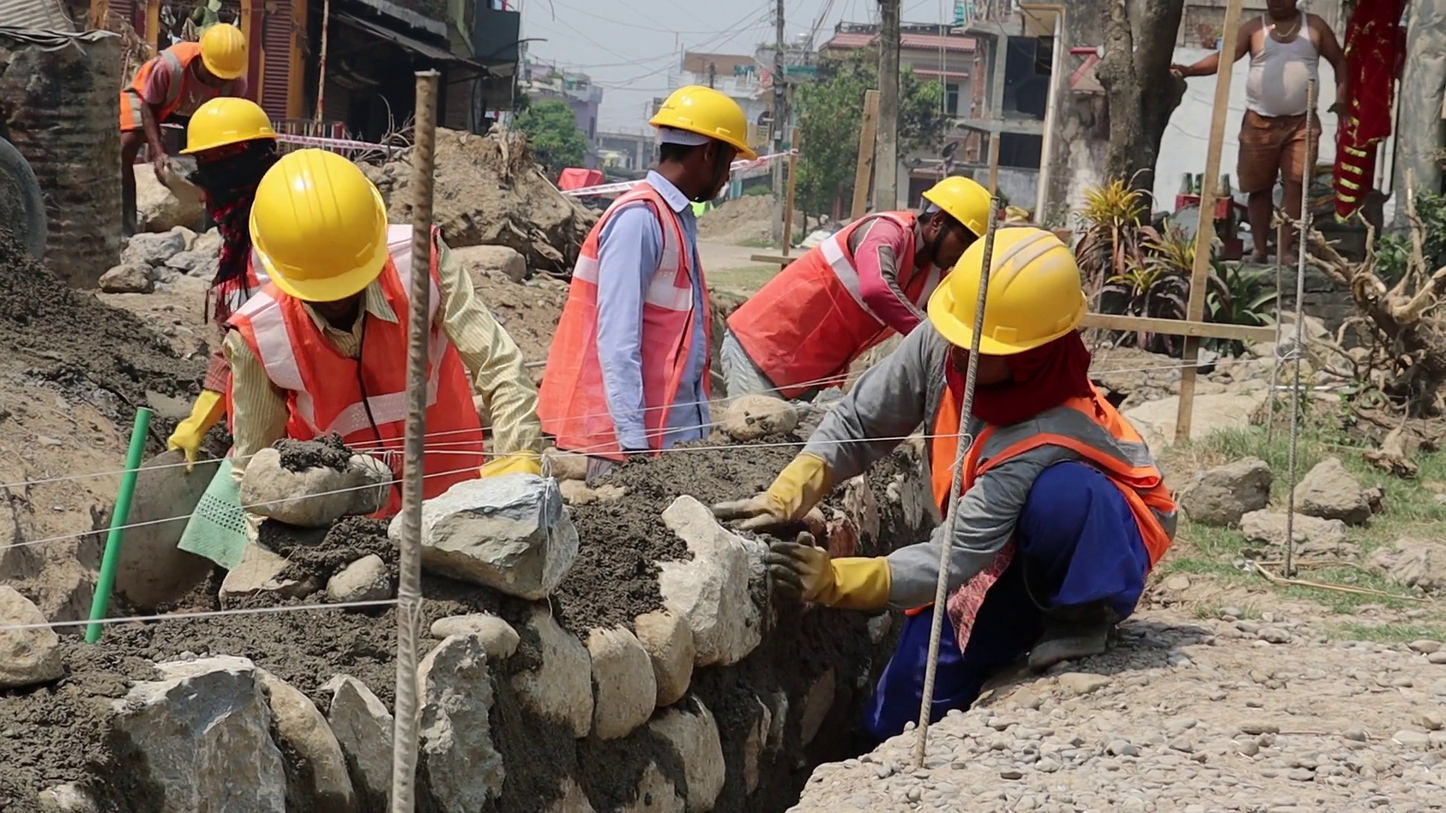helmet: (248, 147, 389, 302), (925, 226, 1088, 357), (648, 84, 760, 160), (177, 96, 279, 154), (920, 175, 994, 244), (198, 23, 247, 80)
mask: (191, 160, 252, 203)
person: (746, 227, 1179, 750), (166, 147, 545, 522), (535, 84, 760, 486), (715, 176, 995, 404), (1170, 0, 1359, 263), (116, 21, 251, 240), (172, 96, 285, 316)
